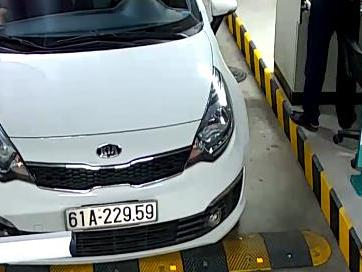number: (65, 201, 158, 230)
